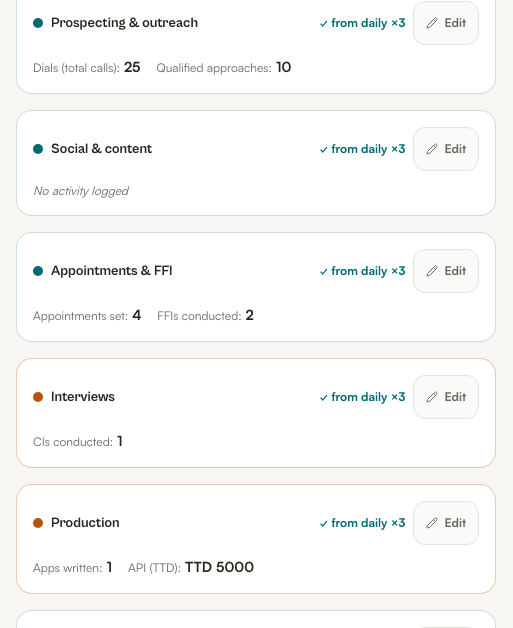
Scenario: E — FU-b: social platform breakdown expandable › platform rows are hidden behind a toggle in edit mode until expanded
Click the button with test id "wcv-section-social-edit". click: (446, 149)
box: [413,127,479,171]
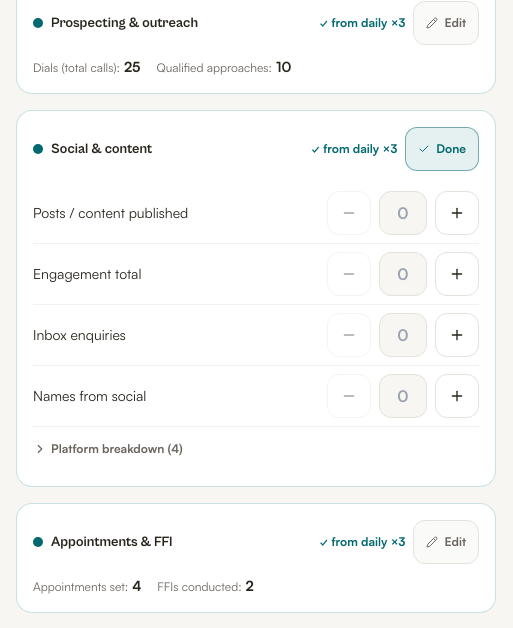
Check: the button named "Posts / content published increase" is shown, box [435,191,479,235]
# Expand → platform steppers appear.
Click the button with test id "wcv-section-social-expand". click: (108, 448)
box: [33,426,479,470]
(page scrolled)
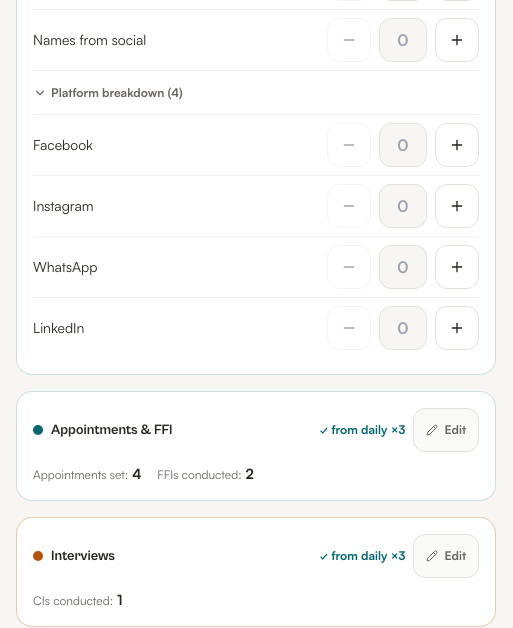
Check: the button named "Facebook increase" is shown, box [435,123,479,167]
Check: the button named "LinkedIn increase" is shown, box [435,306,479,350]
